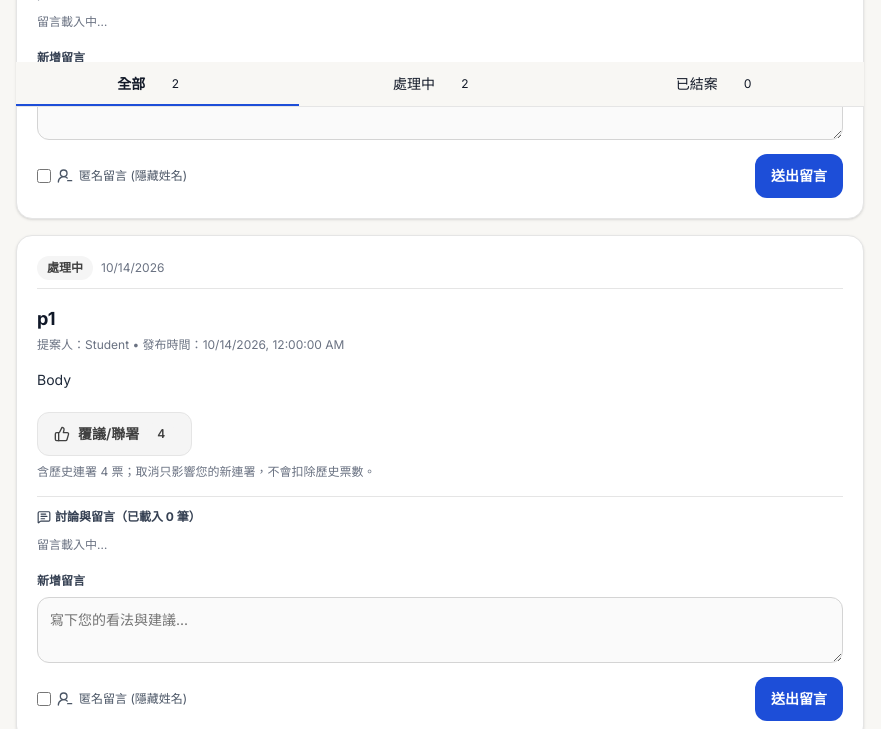
Scenario: reconciles both count and viewer state without resending after disconnect
(page scrolled)
Expected: the heading "p1" is shown, [37,308,56,329]
Click the button "覆議/聯署 4" at [115, 434], box [37,412,192,456]
(page scrolled)
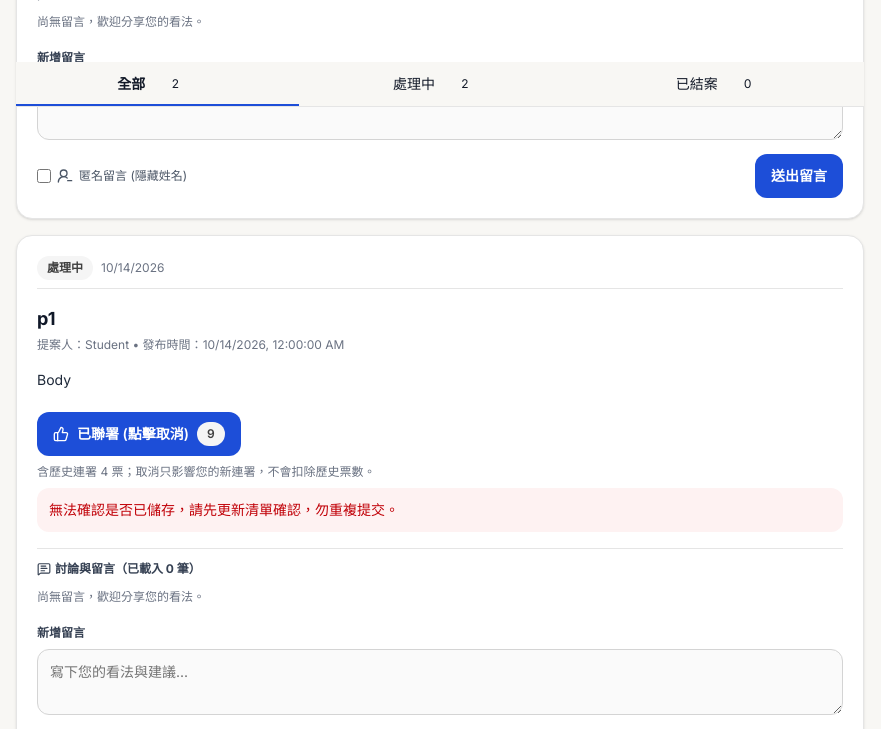
Expected: the message shows "無法確認是否已儲存", [49,500,399,518]
Expected: the button "已聯署 (點擊取消) 9" is shown, [37,412,241,456]
Expected: the text "9" is shown, [197,422,225,446]
